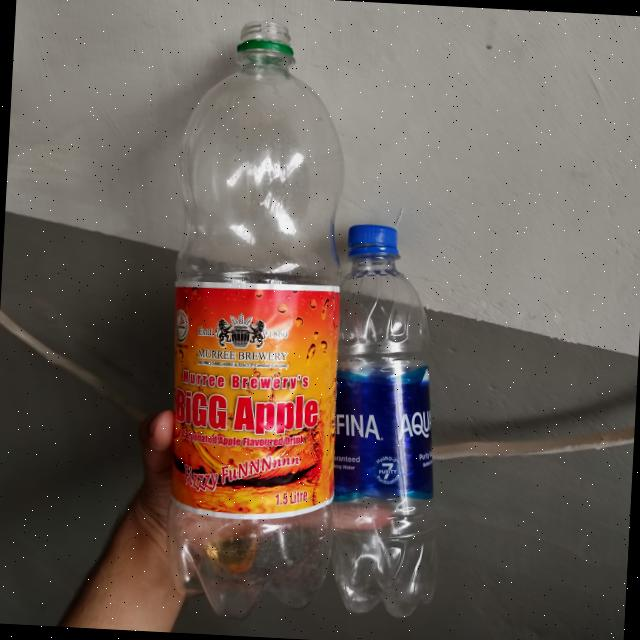bottle: (157, 27, 366, 609), (315, 217, 456, 640)
cap: (350, 218, 412, 260)
label: (164, 276, 346, 520), (338, 351, 438, 506)
